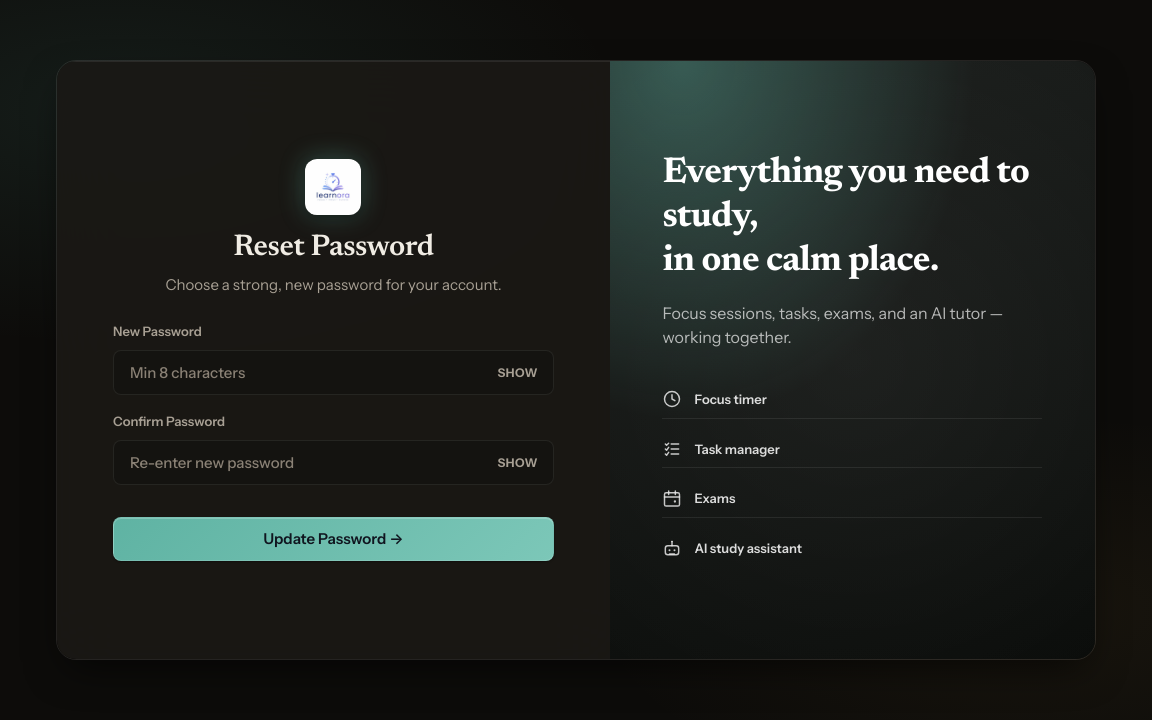
Test case: ResetPasswordView › keeps the form up when the update is rejected
The image size is (1152, 720).
Type "Password1!" into the password field labelled "New Password" at (334, 373), box [113, 350, 554, 395]
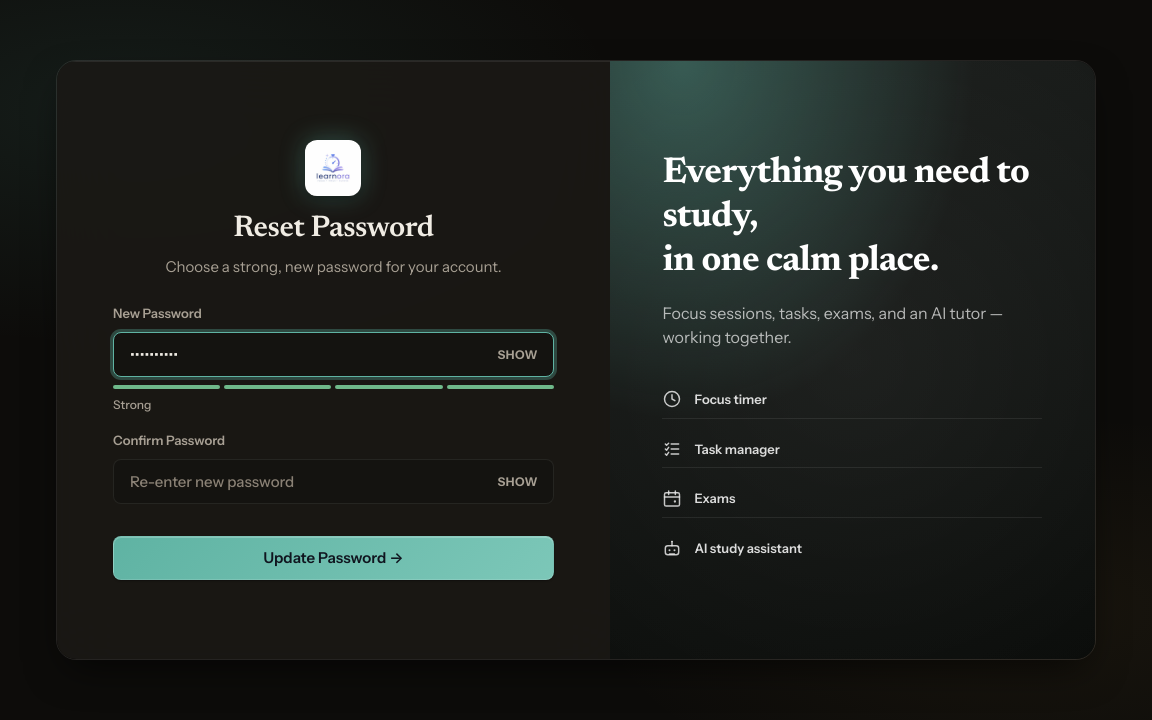
Type "Password1!" into the password field labelled "Confirm Password" at (334, 481), box [113, 459, 554, 504]
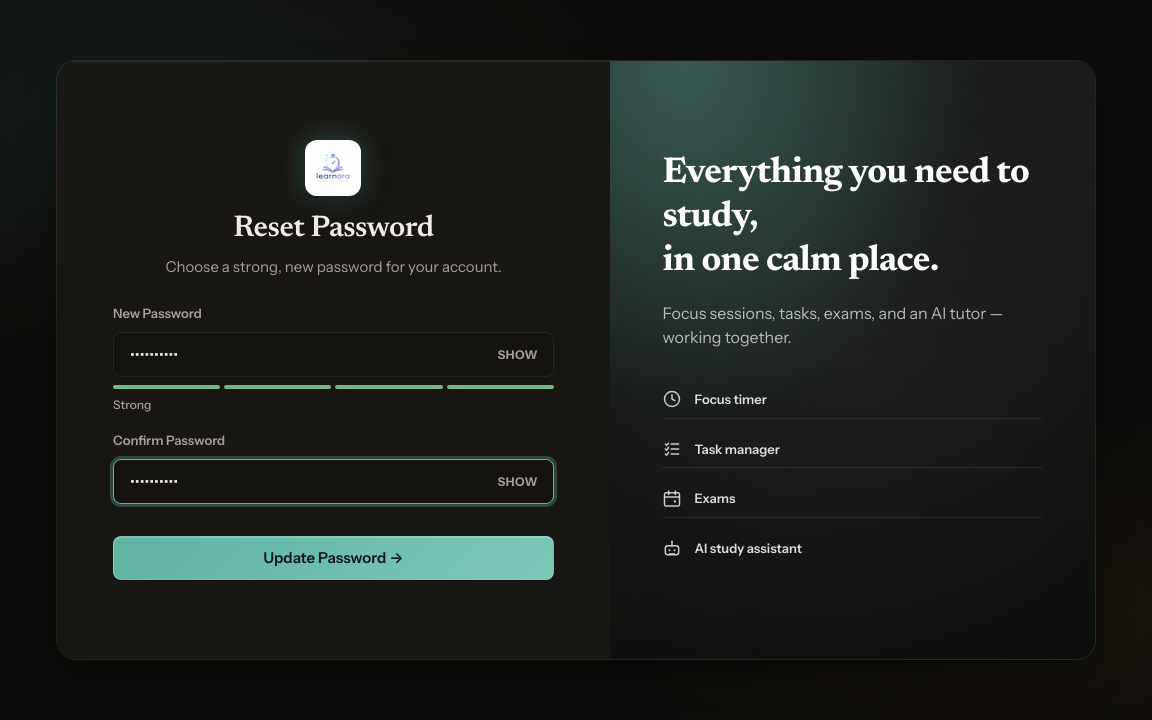
Click the button "Update Password →" at (334, 558), box [113, 536, 554, 580]
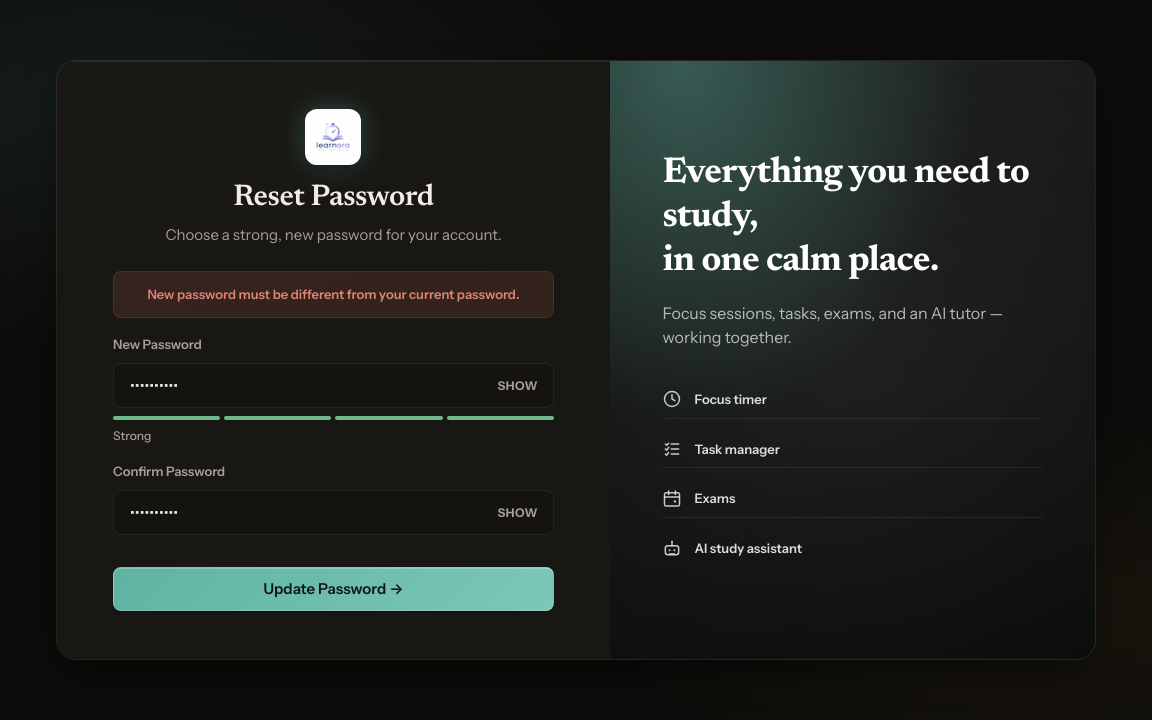
Now the message "New password must be different from your current password." is shown, box [113, 272, 554, 318]
